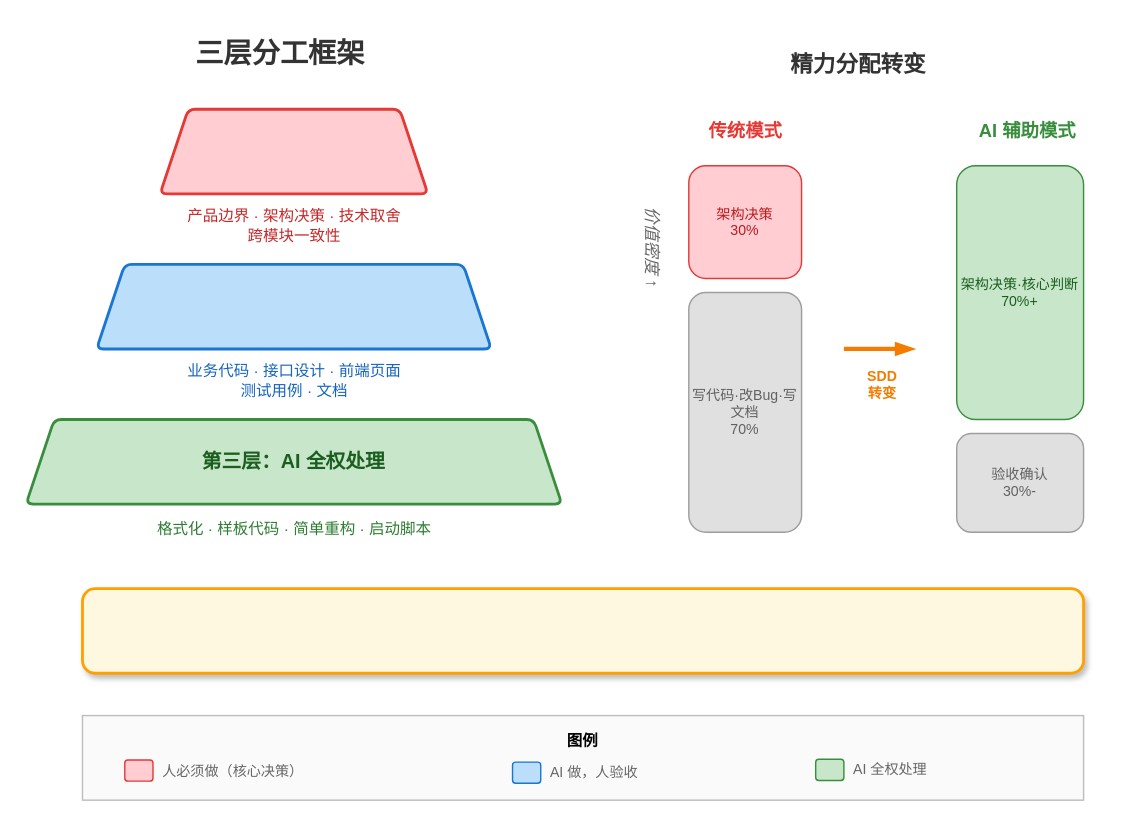
This 1135x825 diagram has some shape labels left out. Here are the shapes that lost their labels. From the top down, the centre of each, then its label:
At pixel 293 151: "第一层：必须你做".
At pixel 293 306: "第二层：AI 做，你验收".
At pixel 584 632: "AI 是放大器，不是发动机 你有方向 → 放大 10 倍 ｜ 你没方向 → 放大的是零".
